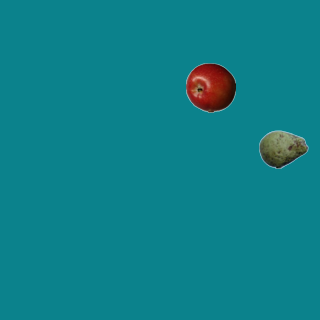Apple Braeburn: (185, 62, 235, 112)
Pear Stone: (258, 124, 308, 174)
